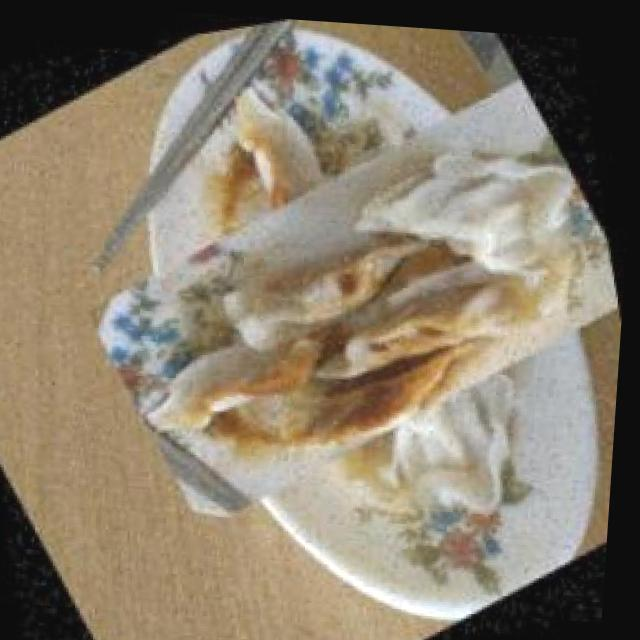fried_dumplings: (68, 5, 640, 591)
